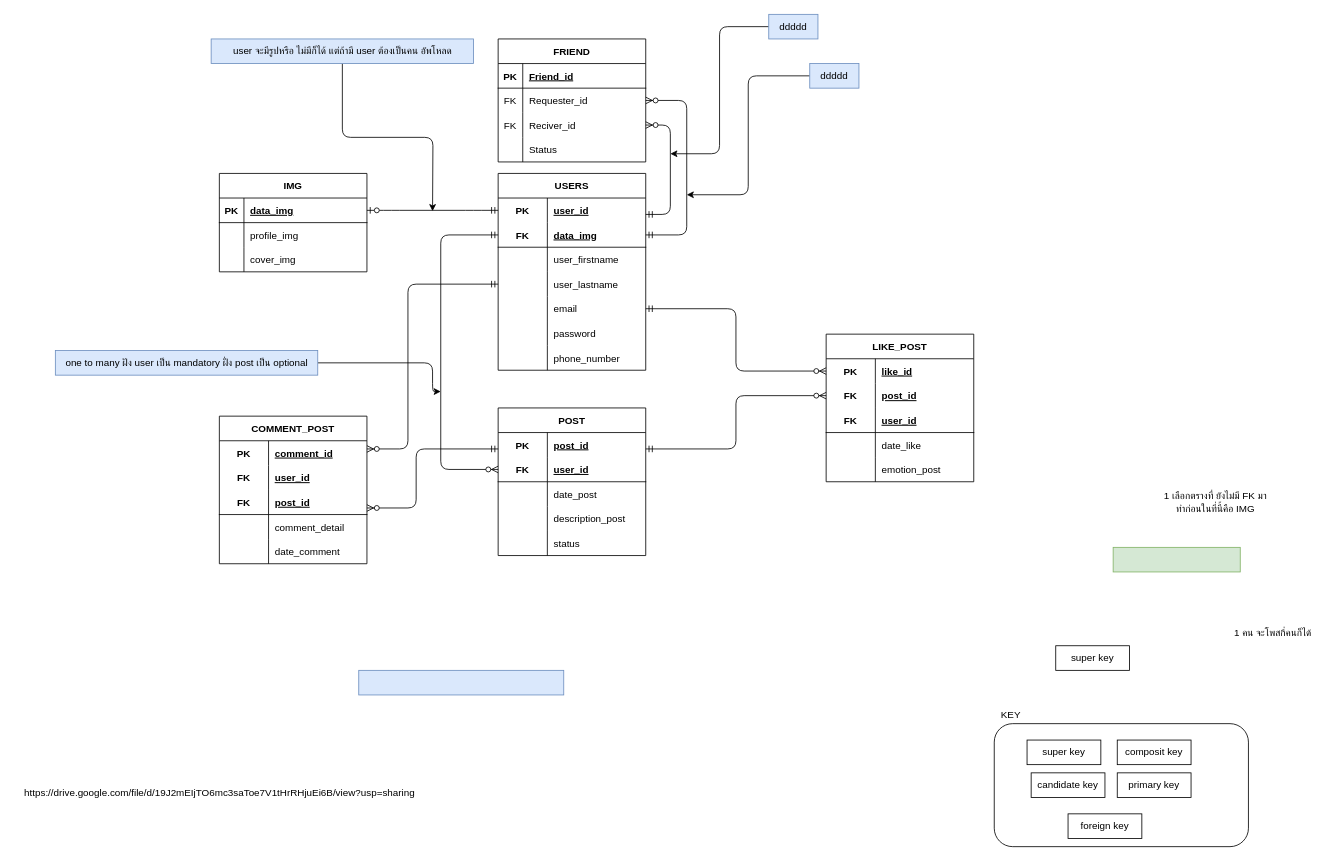
The diagram is 1340 pixels wide and 861 high, and some of its shapes have lost their labels. Here are the shapes that lost their labels. From the top down, the centre of each, then its label:
At point 1176,559: "ไม่จำเป็นต้องใส่ user_นำหน้า เพราะ ชื่อ table ระบุอยู่แล้ว".
At point 461,682: "one to many แบบ optonnal หรือ mandatory".
